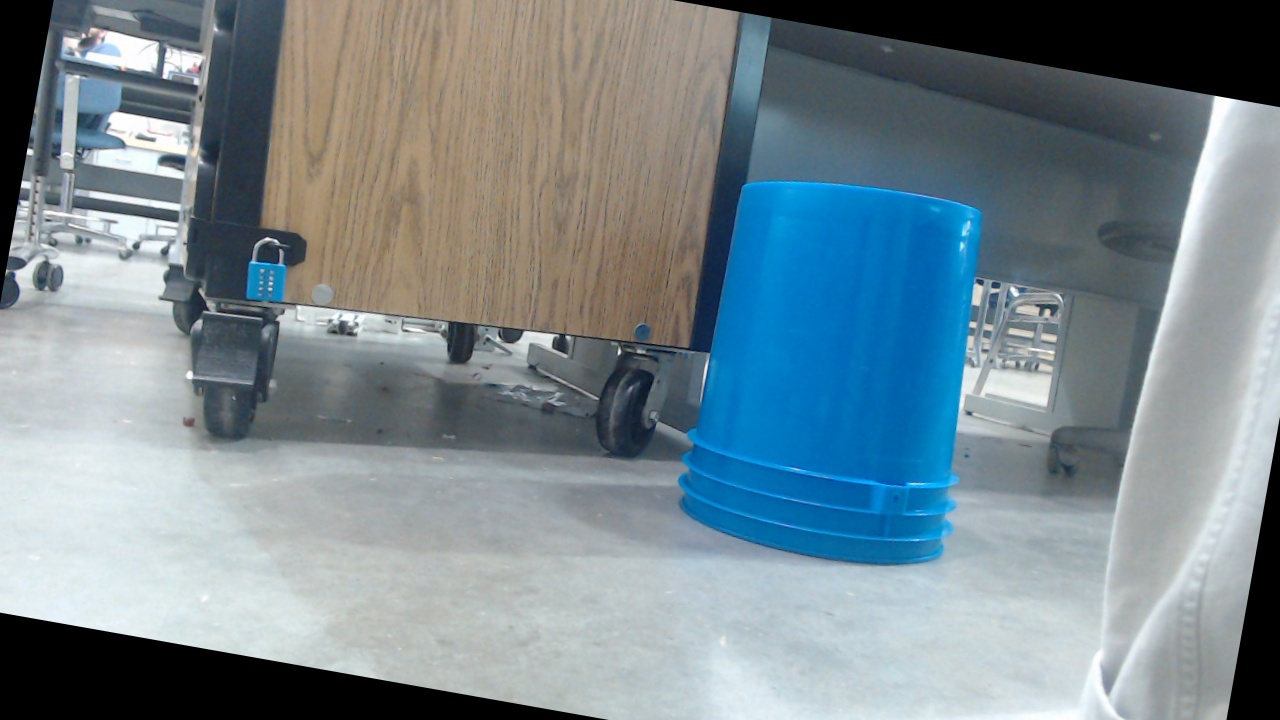blue_bucket: (660, 89, 1014, 522)
